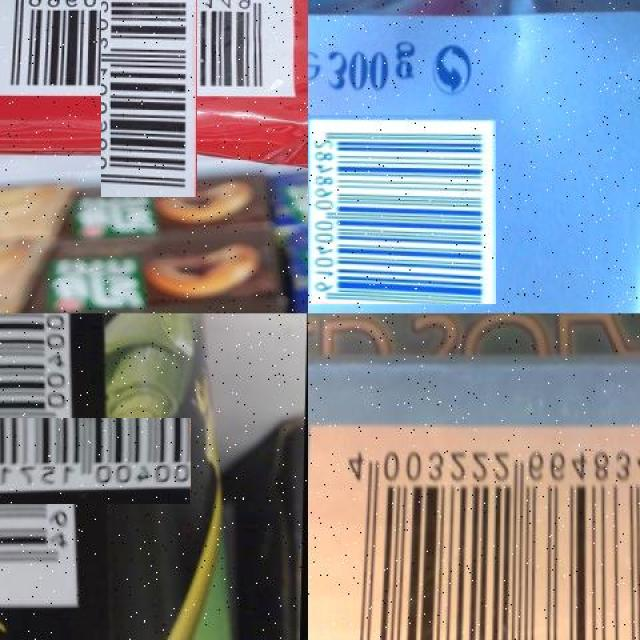Barcode: (308, 425, 640, 640), (308, 115, 497, 304), (51, 0, 248, 147), (0, 365, 139, 555)
